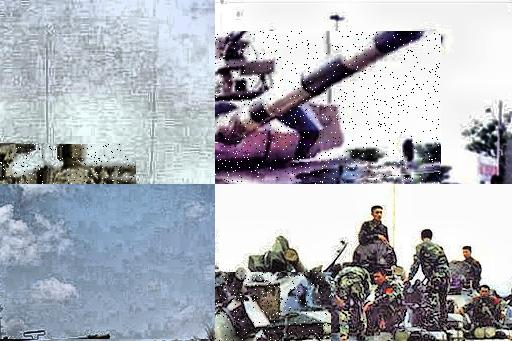tanks: (216, 33, 441, 185), (250, 237, 340, 332), (216, 274, 332, 341), (1, 145, 137, 185), (449, 288, 512, 341), (330, 321, 468, 341)
